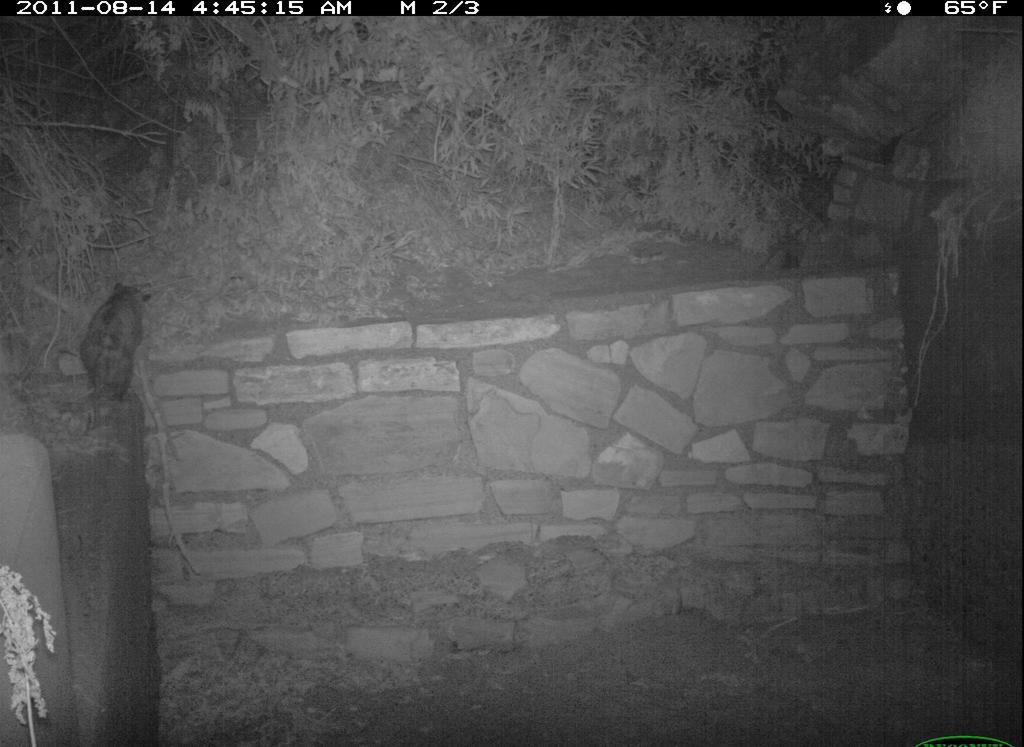opossum: (73, 269, 161, 415)
